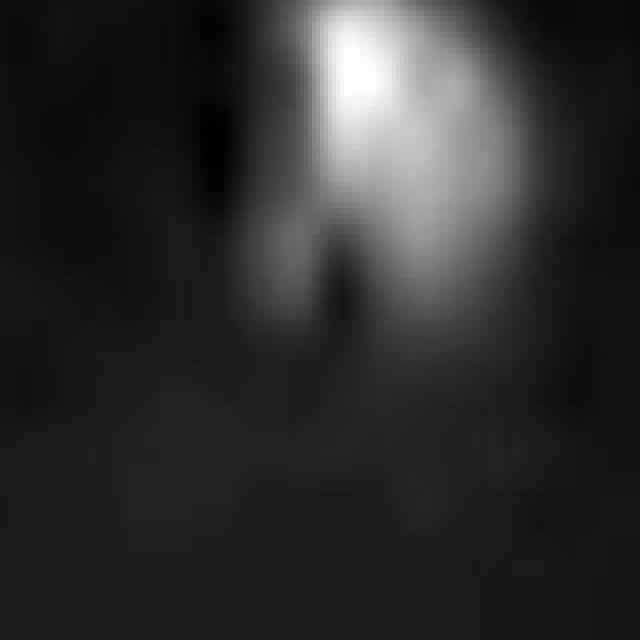person: (249, 1, 537, 369)
